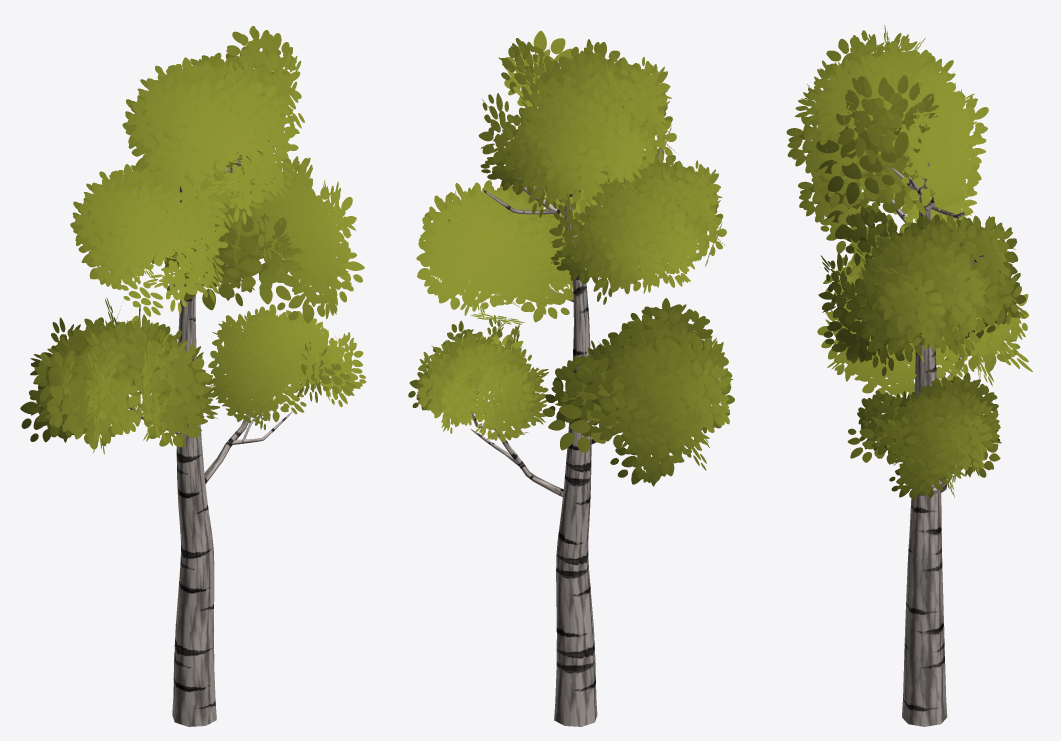
The model's file is BirchTree_1.gltf.
3 renders of one model, left to right at view 1: azimuth 30°, elevation 25°; view 2: azimuth 150°, elevation 25°; view 3: azimuth 270°, elevation 25°, orthographic. The views are drawn at different scales.
Visible parts, largest first — view 1: BirchTree_1; view 2: BirchTree_1; view 3: BirchTree_1.
Boxes of the visible parts, left/top/right/bottom form: BirchTree_1: left=20, top=26, right=366, bottom=726; BirchTree_1: left=408, top=30, right=734, bottom=726; BirchTree_1: left=786, top=25, right=1032, bottom=726.
Bounding box in the file's own units: 2.71 × 5.45 × 1.94.
2 materials, 2 textured.
